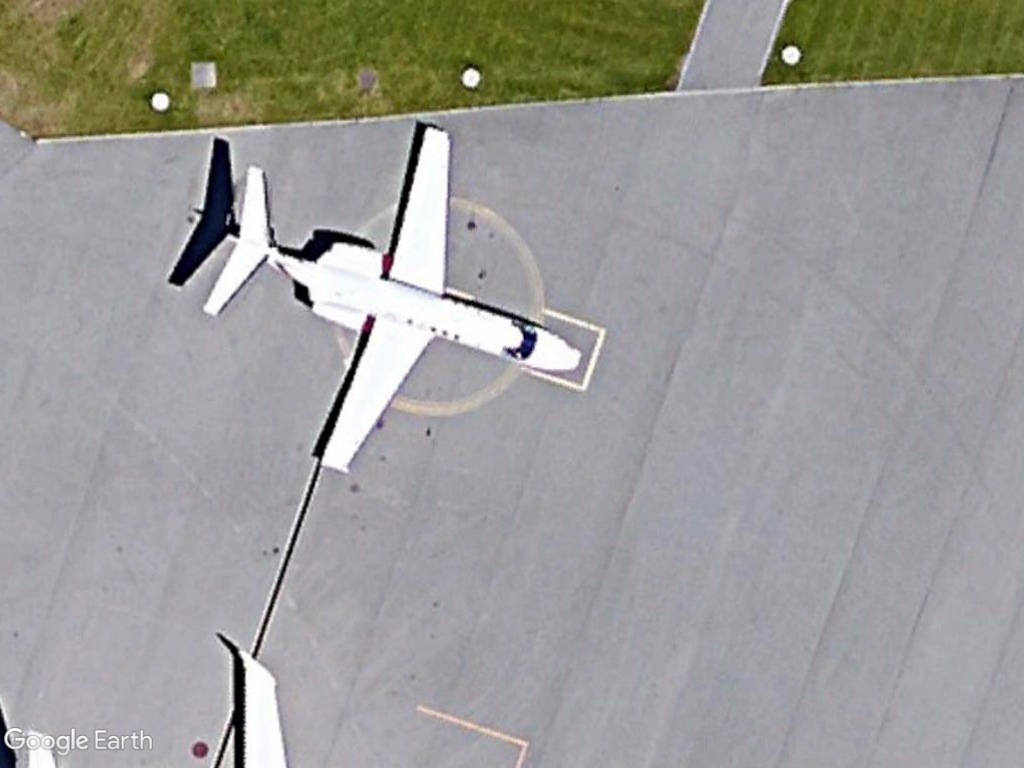chartered: (201, 120, 587, 484)
